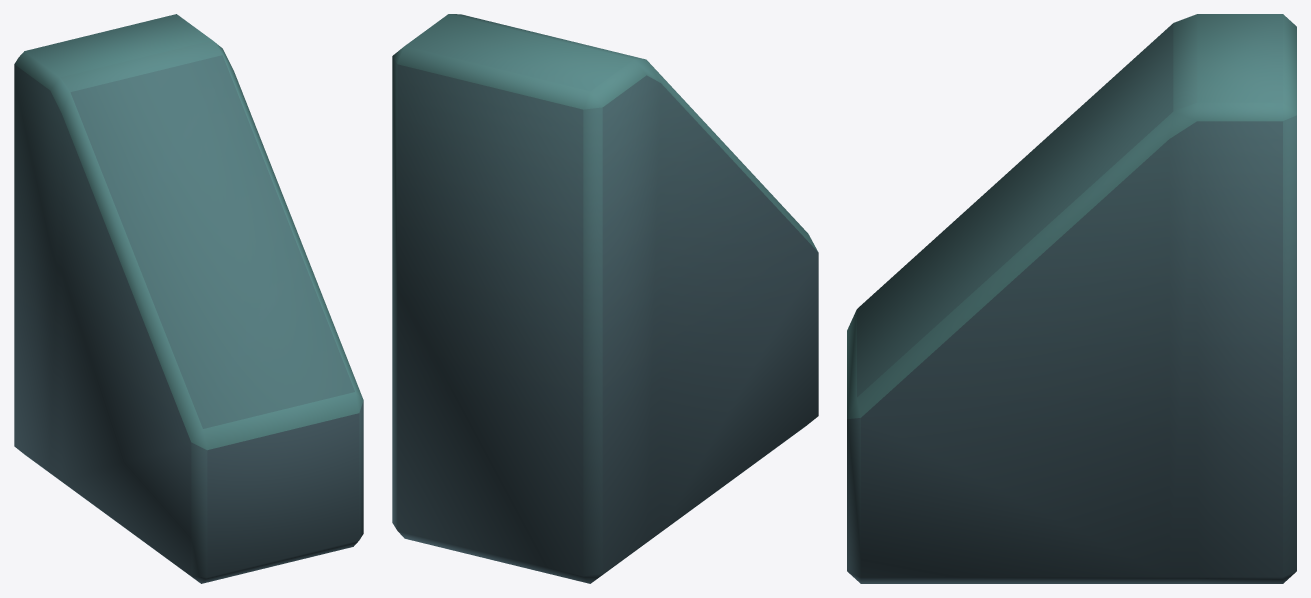
File: stair_sidewall1.fbx
3 views of the same model, side by side, from view 1: azimuth 30°, elevation 25°; view 2: azimuth 150°, elevation 25°; view 3: azimuth 270°, elevation 25° (orthographic). The views are drawn at different scales.
Parts seen in each view (by area): view 1: stair_sidewall1; view 2: stair_sidewall1; view 3: stair_sidewall1.
Part boxes in pixels (x1,y1,x2,y2): stair_sidewall1: (14, 14, 363, 583); stair_sidewall1: (392, 14, 818, 583); stair_sidewall1: (847, 14, 1296, 583).
Bounding box in the file's own units: 53.12 × 119 × 101.
